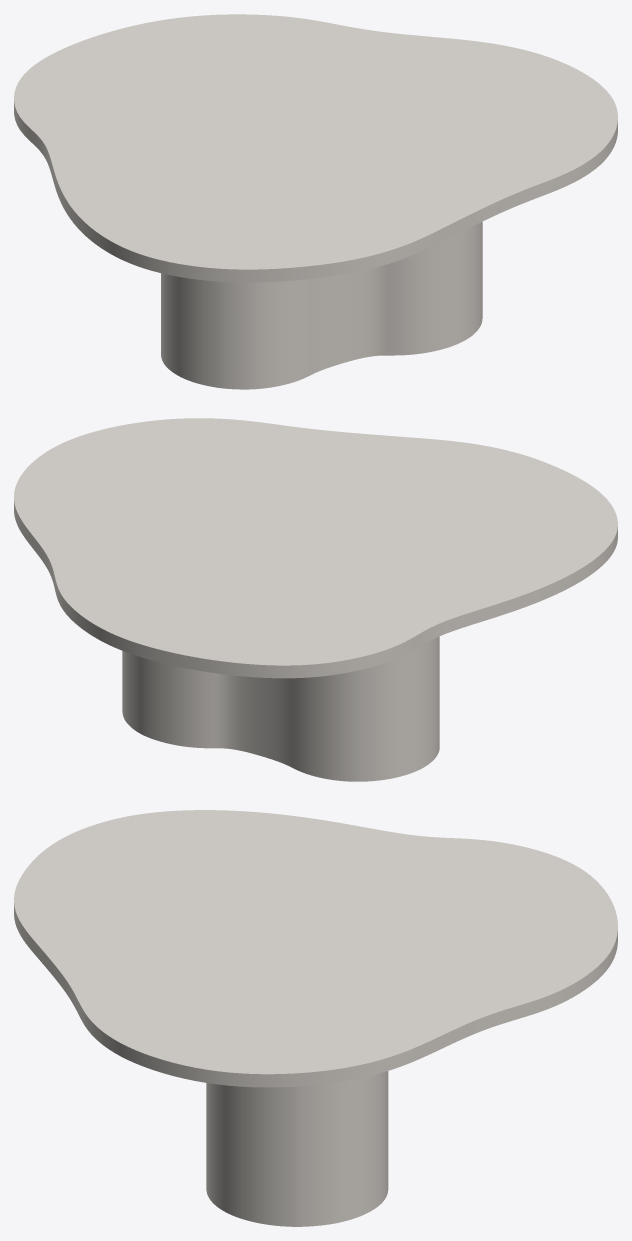
The model's file is pearlwhite_topone_standard_riverwave.glb.
3 renders of one model, top to bottom at view 1: azimuth 30°, elevation 25°; view 2: azimuth 150°, elevation 25°; view 3: azimuth 270°, elevation 25°, orthographic. The views are drawn at different scales.
Parts seen in each view (by area): view 1: standard_topone, riverwave; view 2: standard_topone, riverwave; view 3: standard_topone, riverwave.
Part boxes in pixels (bbox=[...]): standard_topone: bbox=[14, 14, 617, 282]; riverwave: bbox=[161, 221, 482, 389]; standard_topone: bbox=[14, 418, 617, 678]; riverwave: bbox=[122, 636, 439, 781]; standard_topone: bbox=[14, 810, 617, 1087]; riverwave: bbox=[206, 1071, 388, 1226].
Bounding box in the file's own units: 6.83 × 2.5 × 6.6.
1 material, 1 textured.
